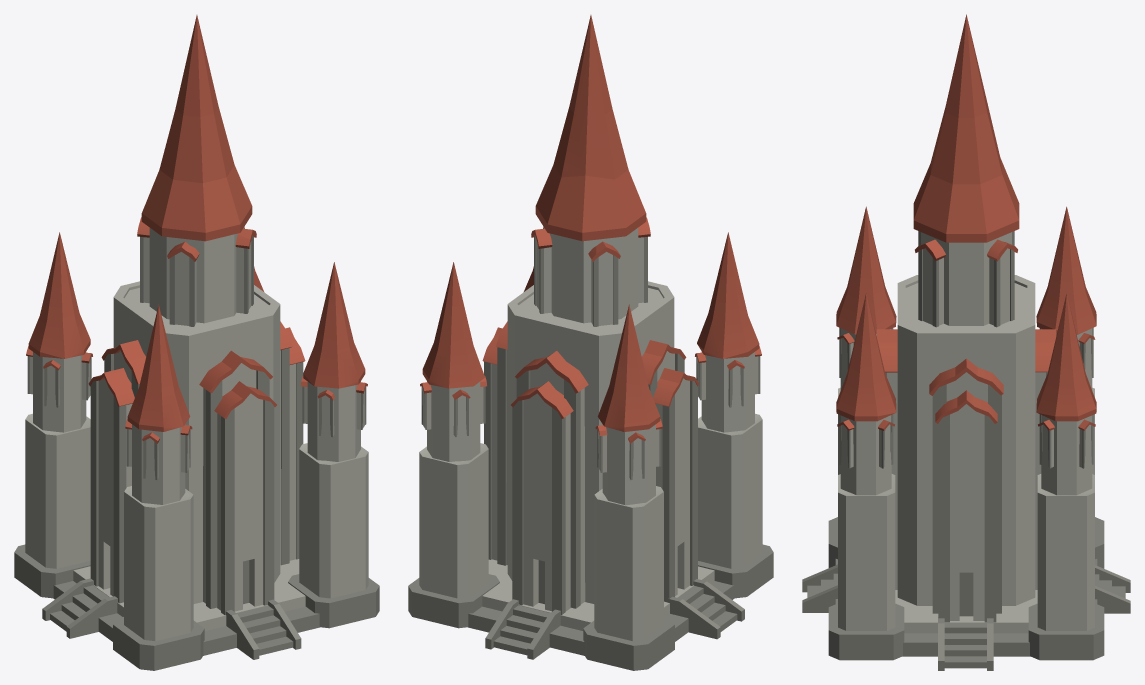
The model's file is Temple_SecondAge_Level3 LOD1.fbx.
3 renders of one model, left to right at view 1: azimuth 30°, elevation 25°; view 2: azimuth 150°, elevation 25°; view 3: azimuth 270°, elevation 25°, orthographic.
Parts seen in each view (by area): view 1: Temple_SecondAge_Level3; view 2: Temple_SecondAge_Level3; view 3: Temple_SecondAge_Level3.
Part boxes in pixels (box(x1,y1,x2,y2)): Temple_SecondAge_Level3: box(14, 15, 379, 670); Temple_SecondAge_Level3: box(408, 15, 773, 670); Temple_SecondAge_Level3: box(802, 14, 1130, 670).
Bounding box in the file's own units: 219 × 433 × 219.
